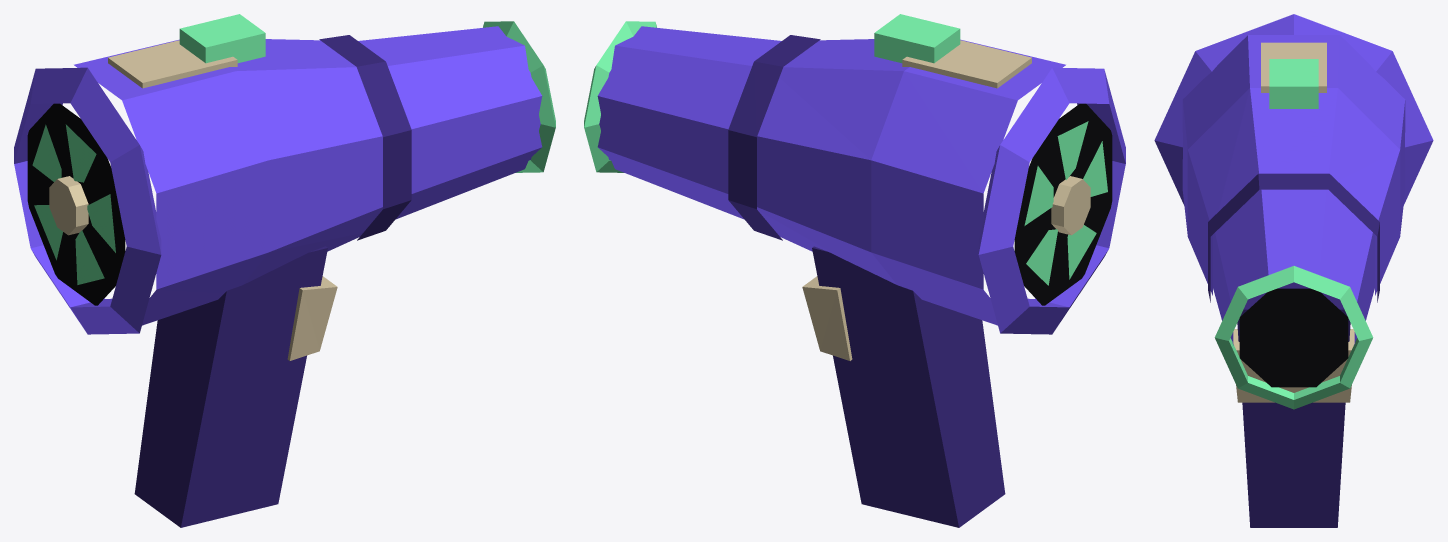
The model's file is hair-dryer-v1-Dh0mLoEQ.glb.
3 views of the same model, side by side, from view 1: azimuth 30°, elevation 25°; view 2: azimuth 150°, elevation 25°; view 3: azimuth 270°, elevation 25° (orthographic). The views are drawn at different scales.
Visible parts, largest first — view 1: HDV1_BodyShell, HDV1_Handle, HDV1_Nozzle, HDV1_RearIntakeRing, HDV1_RearIntakePlate, HDV1_NozzleCollar, HDV1_RearFanBlades, HDV1_ServiceRidge, HDV1_ThreeStepSwitch, HDV1_Trigger, HDV1_FrontLip, HDV1_RearFanHub; view 2: HDV1_BodyShell, HDV1_Handle, HDV1_Nozzle, HDV1_RearIntakeRing, HDV1_RearIntakePlate, HDV1_NozzleCollar, HDV1_RearFanBlades, HDV1_ServiceRidge, HDV1_ThreeStepSwitch, HDV1_Trigger, HDV1_FrontLip, HDV1_RearFanHub; view 3: HDV1_BodyShell, HDV1_Nozzle, HDV1_Handle, HDV1_FrontOpening, HDV1_RearIntakeRing, HDV1_FrontLip, HDV1_NozzleCollar, HDV1_ThreeStepSwitch, HDV1_ServiceRidge, HDV1_Trigger.
Part boxes in pixels (x1=…): HDV1_BodyShell: x1=74, y1=39, x2=382, y2=325; HDV1_Handle: x1=134, y1=246, x2=327, y2=527; HDV1_Nozzle: x1=358, y1=26, x2=542, y2=219; HDV1_RearIntakeRing: x1=14, y1=67, x2=161, y2=334; HDV1_RearIntakePlate: x1=27, y1=103, x2=125, y2=305; HDV1_NozzleCollar: x1=319, y1=35, x2=411, y2=240; HDV1_RearFanBlades: x1=32, y1=124, x2=115, y2=284; HDV1_ServiceRidge: x1=108, y1=40, x2=237, y2=88; HDV1_ThreeStepSwitch: x1=179, y1=14, x2=265, y2=63; HDV1_Trigger: x1=287, y1=276, x2=337, y2=360; HDV1_FrontLip: x1=483, y1=21, x2=555, y2=172; HDV1_RearFanHub: x1=49, y1=176, x2=88, y2=235; HDV1_BodyShell: x1=757, y1=39, x2=1065, y2=325; HDV1_Handle: x1=812, y1=246, x2=1005, y2=527; HDV1_Nozzle: x1=597, y1=26, x2=781, y2=219; HDV1_RearIntakeRing: x1=978, y1=67, x2=1125, y2=334; HDV1_RearIntakePlate: x1=1014, y1=103, x2=1112, y2=305; HDV1_NozzleCollar: x1=728, y1=35, x2=820, y2=240; HDV1_RearFanBlades: x1=1024, y1=121, x2=1107, y2=285; HDV1_ServiceRidge: x1=902, y1=40, x2=1031, y2=88; HDV1_ThreeStepSwitch: x1=874, y1=14, x2=960, y2=63; HDV1_Trigger: x1=802, y1=276, x2=852, y2=360; HDV1_FrontLip: x1=584, y1=21, x2=656, y2=172; HDV1_RearFanHub: x1=1051, y1=176, x2=1090, y2=235; HDV1_BodyShell: x1=1182, y1=35, x2=1405, y2=295; HDV1_Nozzle: x1=1213, y1=189, x2=1374, y2=345; HDV1_Handle: x1=1237, y1=282, x2=1350, y2=527; HDV1_FrontOpening: x1=1239, y1=288, x2=1348, y2=387; HDV1_RearIntakeRing: x1=1154, y1=14, x2=1433, y2=205; HDV1_FrontLip: x1=1214, y1=266, x2=1373, y2=409; HDV1_NozzleCollar: x1=1208, y1=173, x2=1379, y2=302; HDV1_ThreeStepSwitch: x1=1269, y1=59, x2=1318, y2=108; HDV1_ServiceRidge: x1=1261, y1=42, x2=1326, y2=92; HDV1_Trigger: x1=1233, y1=329, x2=1354, y2=402.
Bounding box in the file's own units: 1.84 × 1.78 × 1.02.
